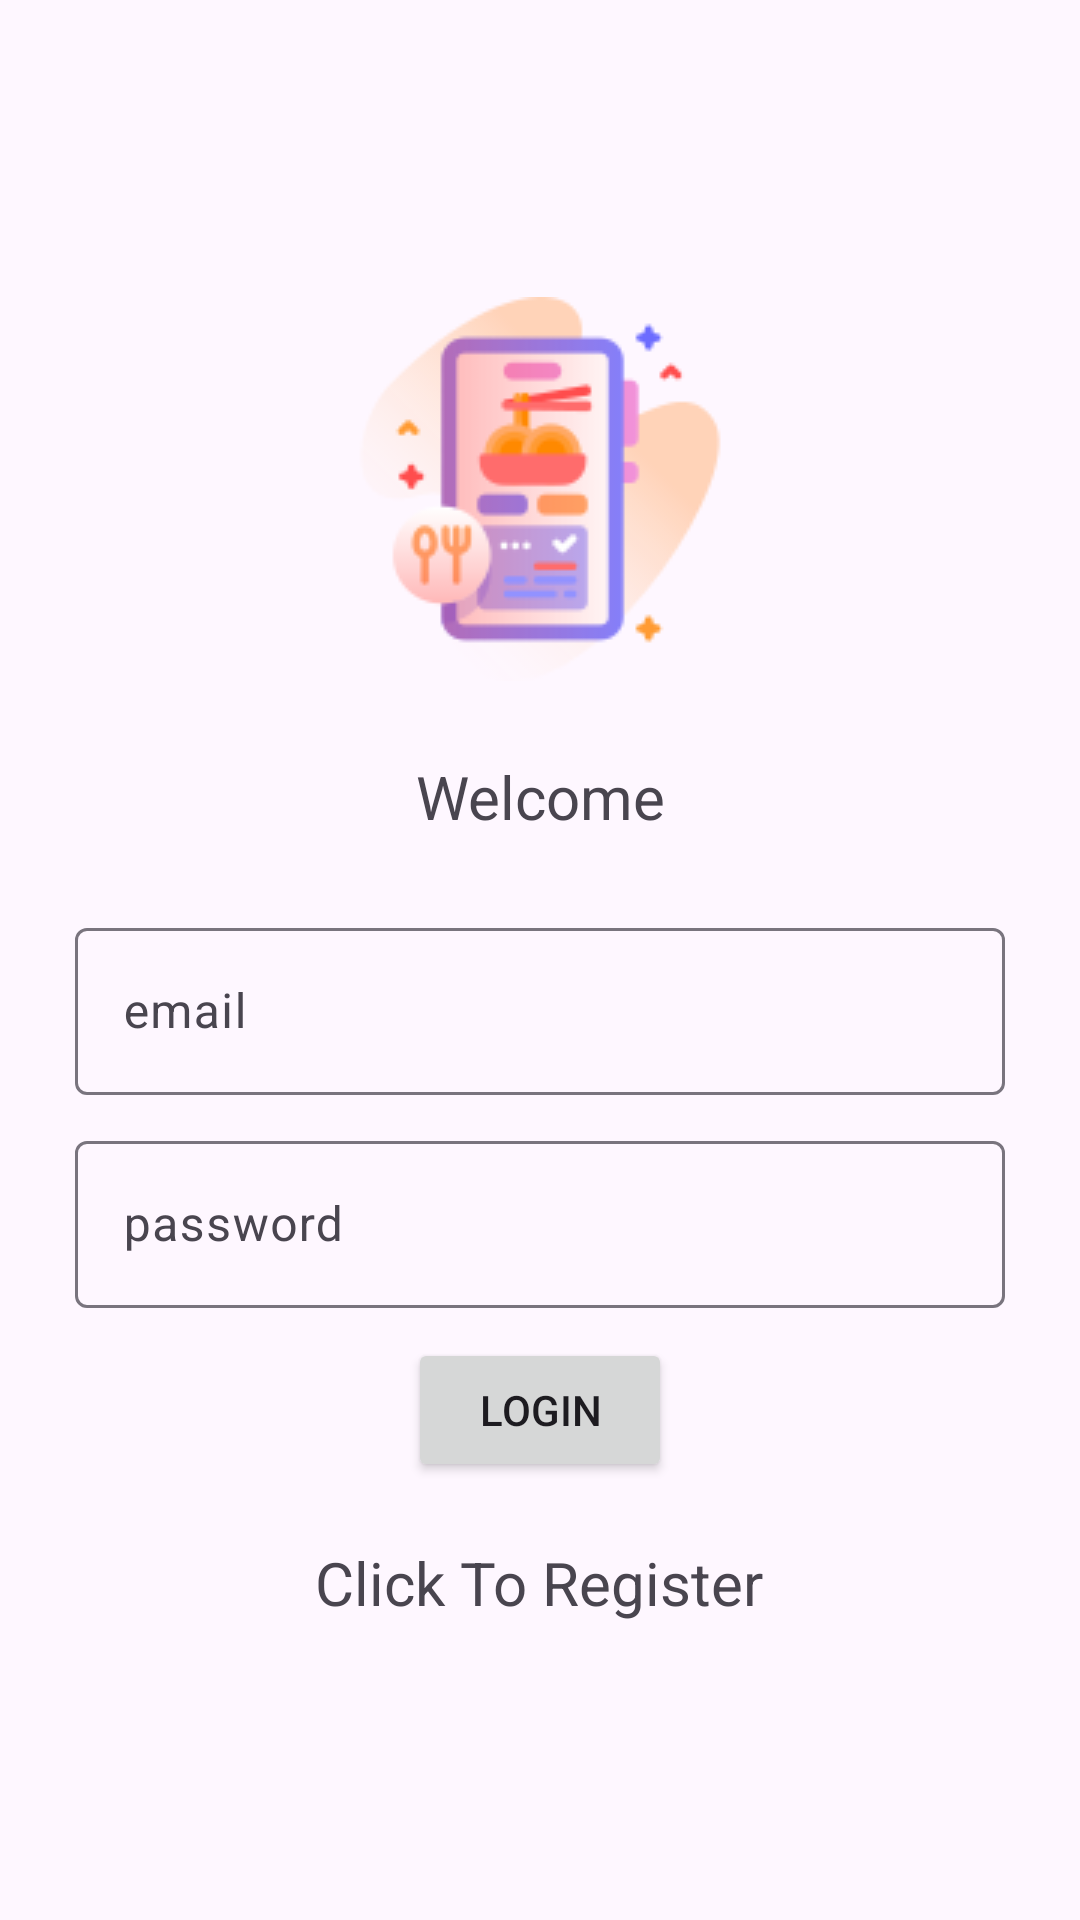

Point at icon controls on the screen. Image size 1080 x 1920, points as (x=x, y=y).
culinary: (x=557, y=470)
